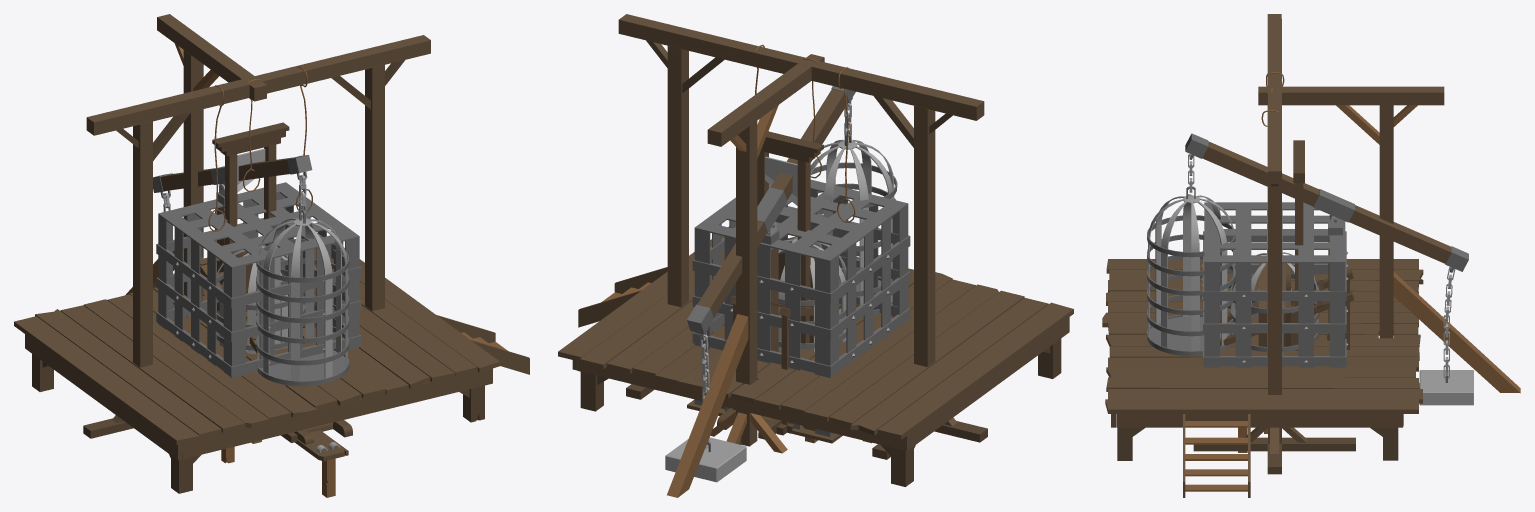
Rendered from kit_tortura.glb.
3 views of the same model, side by side, from view 1: azimuth 30°, elevation 25°; view 2: azimuth 150°, elevation 25°; view 3: azimuth 270°, elevation 25° (orthographic). The views are drawn at different scales.
Parts seen in each view (by area): view 1: torture_device_001, torture_device_011, torture_device_005, torture_device_015, torture_device_003, torture_device_008, torture_device_013, torture_device_004; view 2: torture_device_001, torture_device_011, torture_device_005, torture_device_015, torture_device_003, torture_device_013, torture_device_004; view 3: torture_device_001, torture_device_015, torture_device_011, torture_device_005, torture_device_003, torture_device_013, torture_device_004, torture_device_007.
Boxes of the visible parts, left/top/right/bottom form: torture_device_001: left=14, top=14, right=529, bottom=493; torture_device_011: left=156, top=182, right=361, bottom=377; torture_device_005: left=83, top=35, right=430, bottom=438; torture_device_015: left=153, top=155, right=349, bottom=386; torture_device_003: left=212, top=122, right=352, bottom=444; torture_device_008: left=221, top=430, right=348, bottom=497; torture_device_013: left=216, top=245, right=305, bottom=354; torture_device_004: left=200, top=257, right=316, bottom=442; torture_device_001: left=558, top=54, right=1073, bottom=497; torture_device_011: left=687, top=179, right=910, bottom=443; torture_device_005: left=618, top=14, right=987, bottom=459; torture_device_015: left=665, top=86, right=897, bottom=482; torture_device_003: left=717, top=131, right=823, bottom=439; torture_device_013: left=778, top=236, right=846, bottom=352; torture_device_004: left=726, top=296, right=859, bottom=435; torture_device_001: left=1102, top=86, right=1520, bottom=497; torture_device_015: left=1147, top=133, right=1473, bottom=405; torture_device_011: left=1201, top=202, right=1348, bottom=367; torture_device_005: left=1193, top=14, right=1355, bottom=474; torture_device_003: left=1293, top=140, right=1304, bottom=350; torture_device_013: left=1230, top=252, right=1319, bottom=355; torture_device_004: left=1165, top=270, right=1353, bottom=352; torture_device_007: left=1258, top=263, right=1290, bottom=347.
Size of the model in its own units: 6.18 by 5.39 by 5.93.
